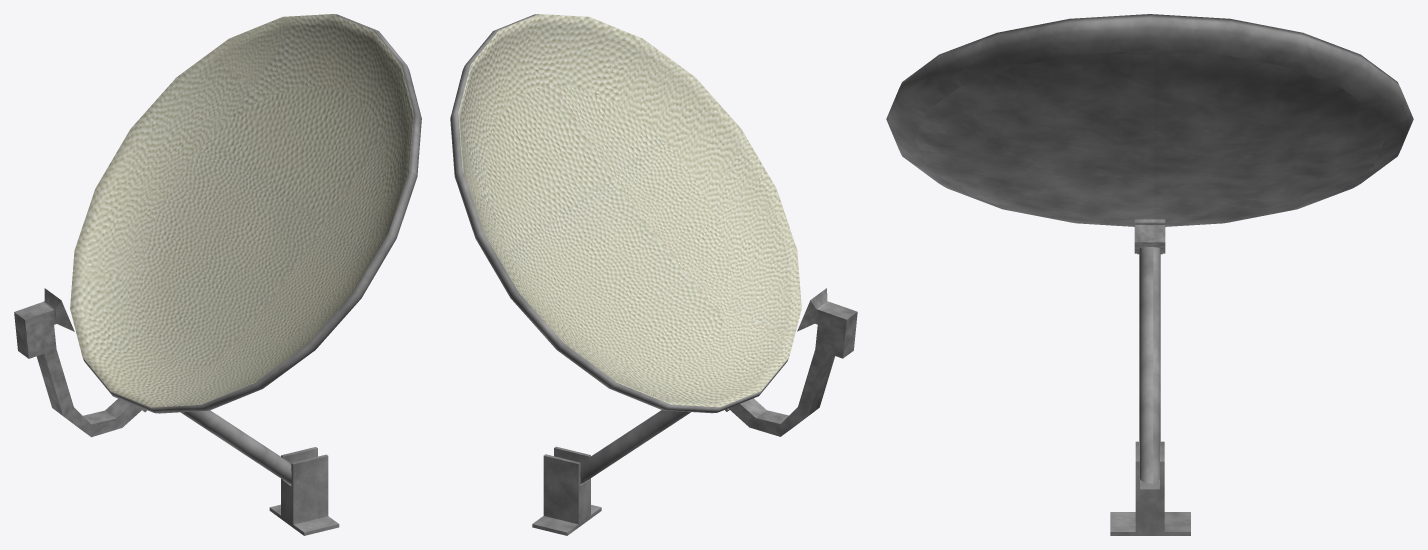
File: P05_EngC_SatelliteDish.fbx
3 renders of one model, left to right at view 1: azimuth 30°, elevation 25°; view 2: azimuth 150°, elevation 25°; view 3: azimuth 270°, elevation 25°, orthographic. The views are drawn at different scales.
Parts seen in each view (by area): view 1: SM_Dish, SM_Antenna, SM_GroundMount, SM_Shaft; view 2: SM_Dish, SM_Antenna, SM_GroundMount, SM_Shaft; view 3: SM_Dish, SM_Shaft, SM_GroundMount, SM_Mount.
Boxes of the visible parts, x1,y1,x2,y2 form: SM_Dish: [70, 14, 421, 413]; SM_Antenna: [14, 288, 142, 437]; SM_GroundMount: [269, 447, 339, 535]; SM_Shaft: [181, 410, 291, 484]; SM_Dish: [450, 14, 801, 413]; SM_Antenna: [729, 288, 857, 436]; SM_GroundMount: [532, 446, 601, 535]; SM_Shaft: [580, 410, 690, 483]; SM_Dish: [886, 14, 1413, 226]; SM_Shaft: [1139, 247, 1160, 483]; SM_GroundMount: [1110, 441, 1190, 535]; SM_Mount: [1134, 219, 1165, 253].
Size of the model in its own units: 10.32 by 12.87 by 11.16.
